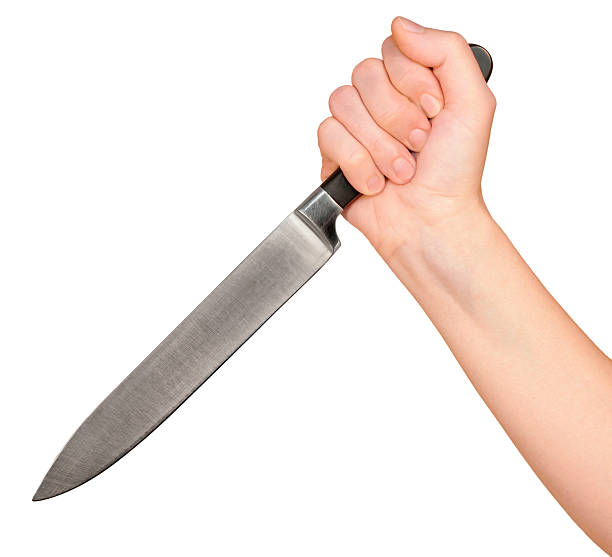knife: (28, 39, 494, 502)
